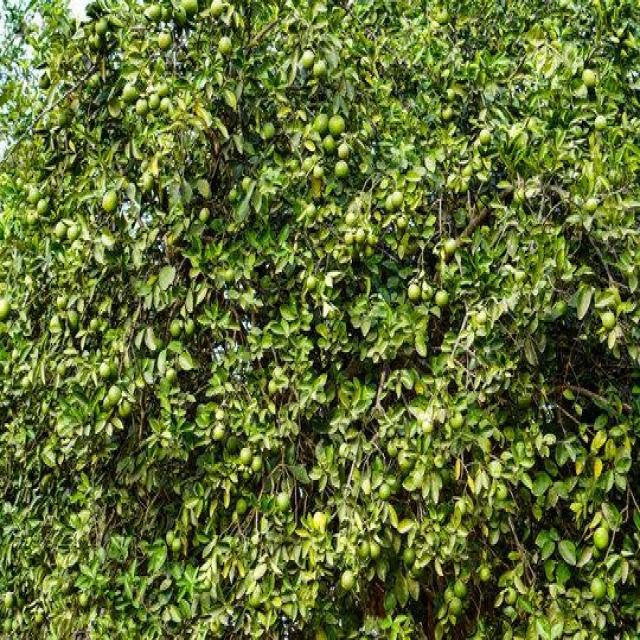Jeruk Belum Matang: (156, 28, 172, 54), (589, 578, 607, 600), (328, 114, 345, 137), (595, 526, 608, 550), (399, 452, 414, 472), (448, 412, 463, 432), (210, 2, 226, 20), (103, 190, 116, 212), (124, 84, 138, 104), (322, 135, 336, 155), (334, 160, 348, 180), (449, 597, 464, 615), (316, 114, 328, 136), (0, 298, 11, 322), (68, 310, 80, 332), (581, 68, 594, 88), (173, 7, 186, 27), (218, 37, 232, 55), (278, 492, 290, 512), (184, 0, 199, 16), (404, 549, 417, 567), (594, 114, 607, 132), (118, 400, 132, 416), (92, 18, 108, 32), (108, 386, 120, 404), (342, 570, 354, 588), (455, 580, 467, 598), (366, 540, 379, 556), (435, 288, 448, 304), (302, 52, 315, 68), (56, 224, 68, 240), (100, 362, 112, 378), (240, 448, 252, 464), (604, 313, 616, 329), (148, 6, 161, 20), (338, 142, 348, 160), (236, 499, 248, 514), (358, 540, 369, 556), (408, 284, 419, 300), (478, 130, 489, 146), (28, 188, 40, 202), (68, 226, 80, 240), (136, 100, 148, 114), (251, 457, 263, 471), (200, 206, 210, 222), (171, 320, 181, 336), (161, 6, 171, 22), (344, 213, 356, 226), (38, 199, 49, 213), (264, 123, 275, 137), (380, 484, 390, 499), (149, 95, 160, 108), (184, 320, 194, 334), (171, 538, 181, 552), (388, 441, 398, 455), (27, 213, 37, 226), (356, 229, 366, 242), (344, 231, 354, 244), (393, 192, 402, 206), (446, 240, 456, 252), (316, 62, 326, 73), (386, 197, 394, 210)
